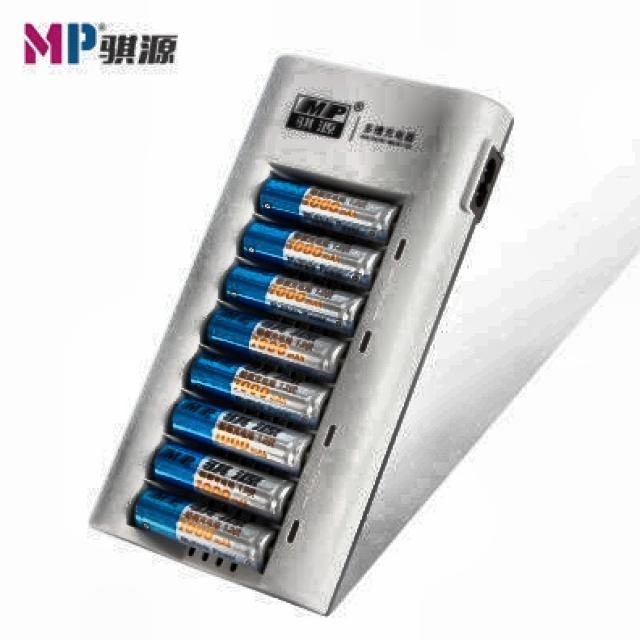Non-Valuable Waste - Batteries: (133, 488, 274, 569), (152, 442, 293, 521), (174, 397, 309, 475), (190, 352, 329, 427), (206, 307, 345, 381), (225, 264, 362, 335), (258, 177, 398, 244), (242, 220, 379, 288)
